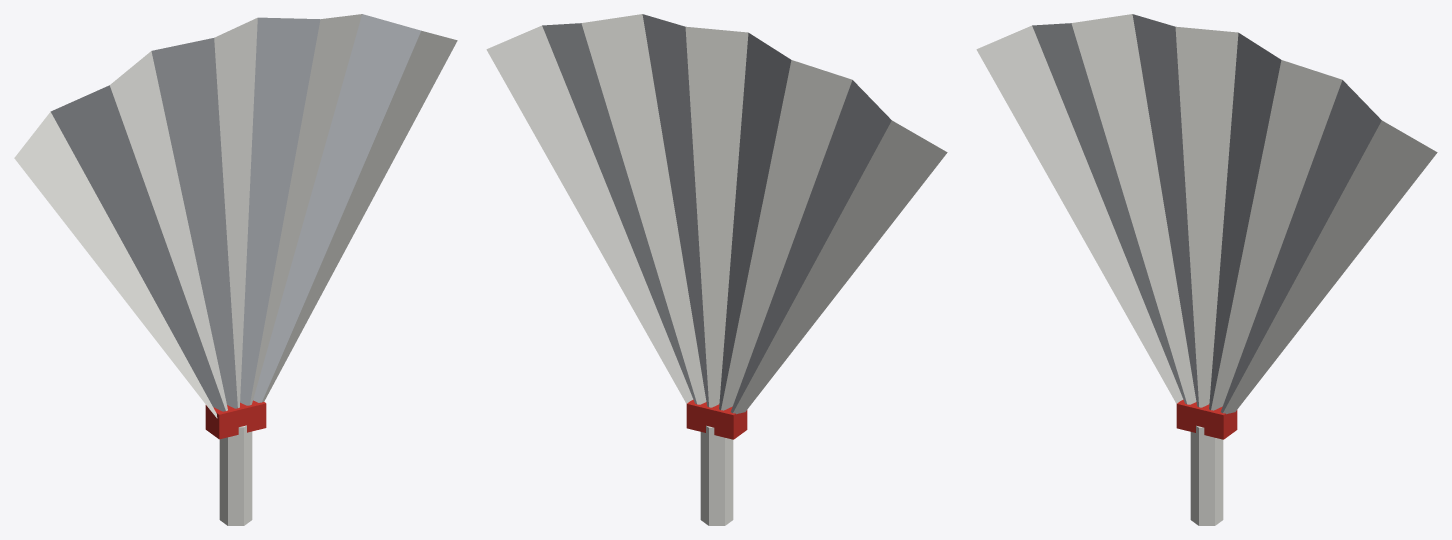
File: w_harisen.glb
The picture shows the model from 3 angles, left to right: view 1: azimuth 30°, elevation 25°; view 2: azimuth 150°, elevation 25°; view 3: azimuth 330°, elevation 25°; orthographic projection.
Parts seen in each view (by area): view 1: harisen; view 2: harisen; view 3: harisen.
Part boxes in pixels (x1=…): harisen: x1=14, y1=14, x2=457, y2=525; harisen: x1=486, y1=14, x2=947, y2=525; harisen: x1=976, y1=14, x2=1437, y2=525.
Size of the model in its own units: 0.9618 by 0.9981 by 0.06.
